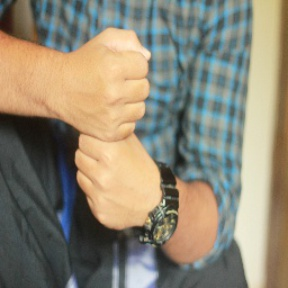G: (67, 25, 170, 229)
